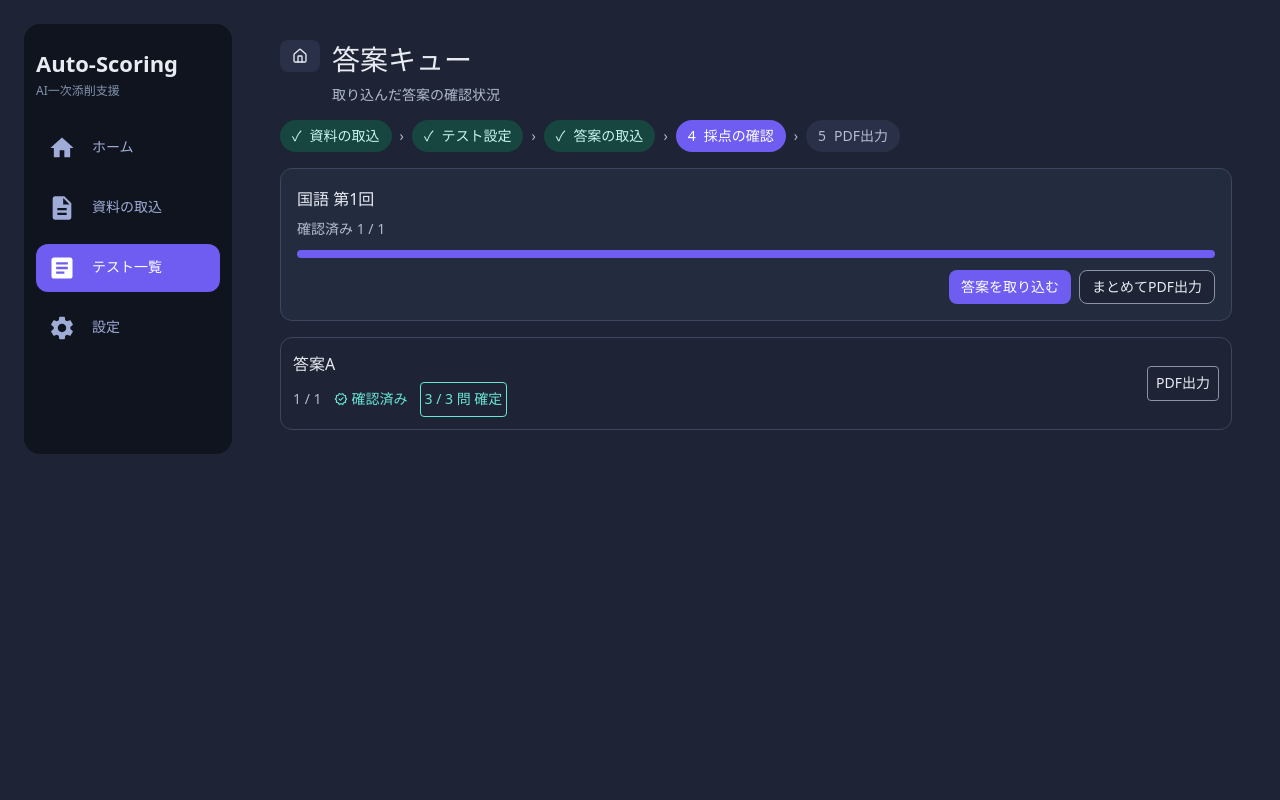
Test: SubmissionQueuePage (Issue #113 / Issue #242 / INV-021, 140..146, 158, 159) › PDF出力 (INV-145 / INV-146 / INV-190) › 確定し終えた答案の行から、レビュー画面を開かずに出力できる (INV-190)
Expected: the button with test id "queue-row-done" is shown, [281, 338, 1231, 429]
Step 1. Click the button with test id "queue-export-done" → [1183, 383], box [1147, 366, 1219, 401]
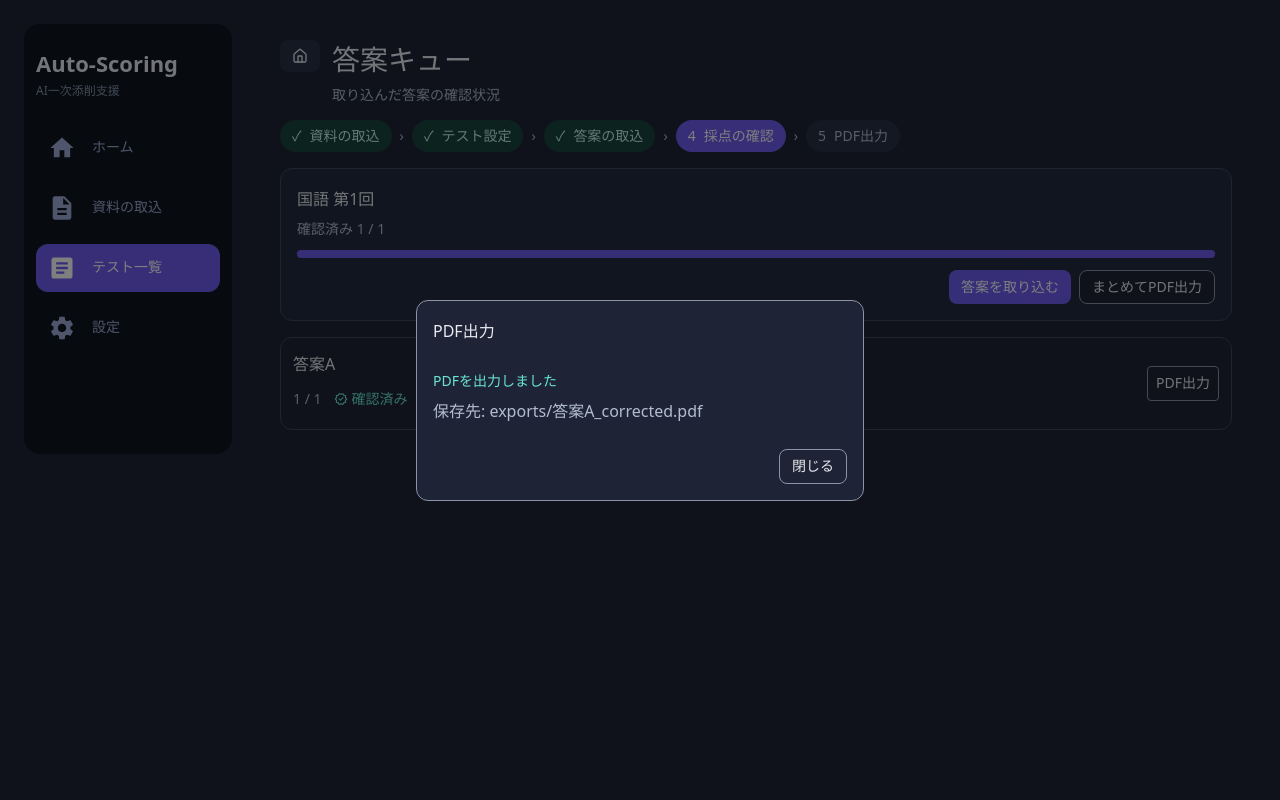
Expected: the heading "答案キュー" is shown, [332, 40, 472, 78]
Expected: the element with test id "export-dialog-success" is shown, [433, 370, 702, 422]
Expected: the text "保存先: exports/答案A_corrected.pdf" is shown, [433, 400, 702, 422]
